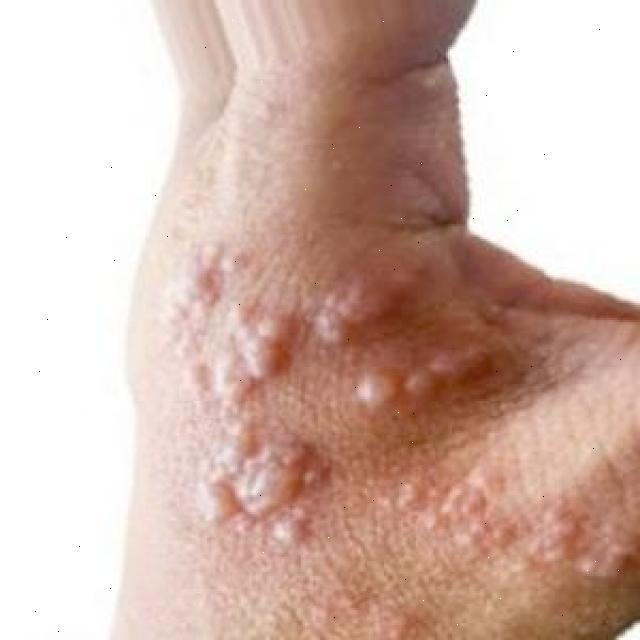Shingles: (157, 238, 324, 550), (366, 457, 640, 585), (349, 348, 501, 427), (307, 258, 430, 349)
